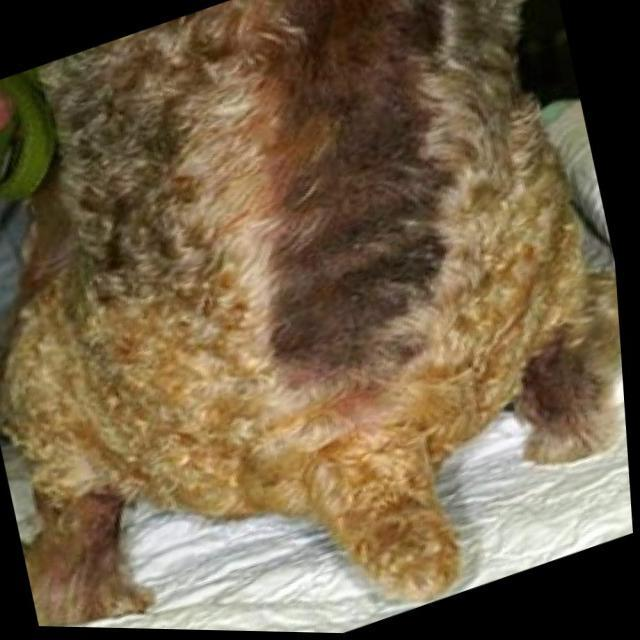allergic dermatitis: (264, 0, 439, 398)
